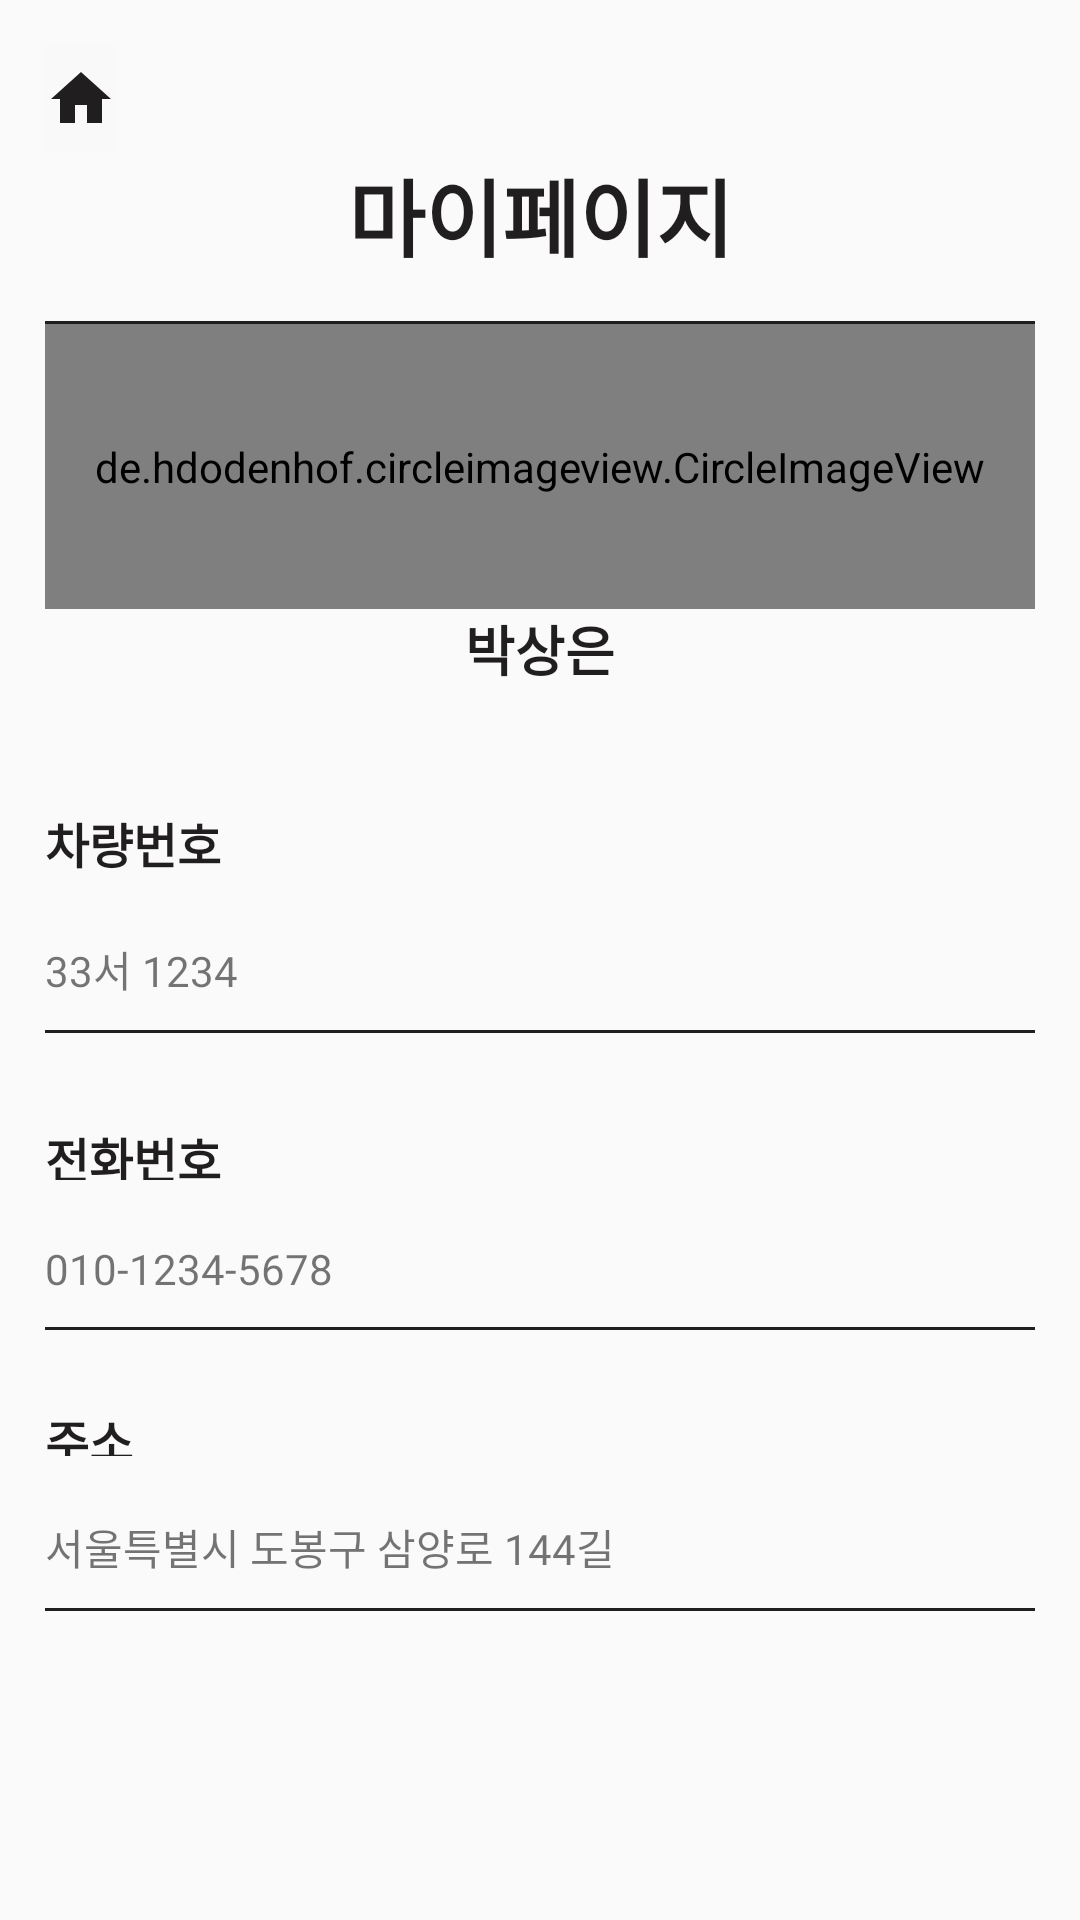

Locate icon controls on the screen. Image size 1080px×1920px, boxes as {"left": x1, "top": y1, "right": x2, "bottom": y2}.
돌아가기: {"left": 51, "top": 72, "right": 111, "bottom": 123}
